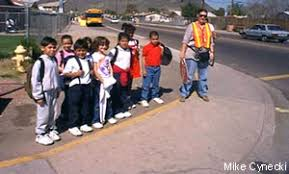person: (178, 8, 214, 102), (31, 35, 60, 146), (139, 30, 165, 107)
